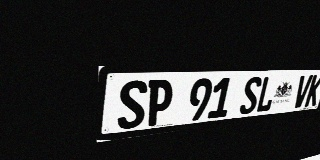1: (207, 77, 234, 119)
9: (186, 78, 214, 121)
K: (304, 75, 320, 107)
L: (255, 76, 279, 113)
P: (145, 79, 174, 127)
S: (117, 80, 148, 130), (238, 77, 263, 115)
V: (291, 75, 313, 108)
